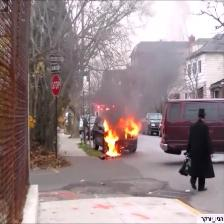fire: (85, 102, 161, 168)
smoke: (93, 1, 210, 115)
